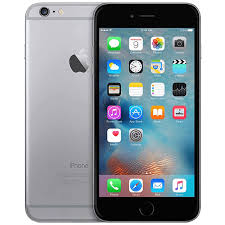iphone: (91, 1, 202, 225)
iphone6: (91, 1, 202, 225)
